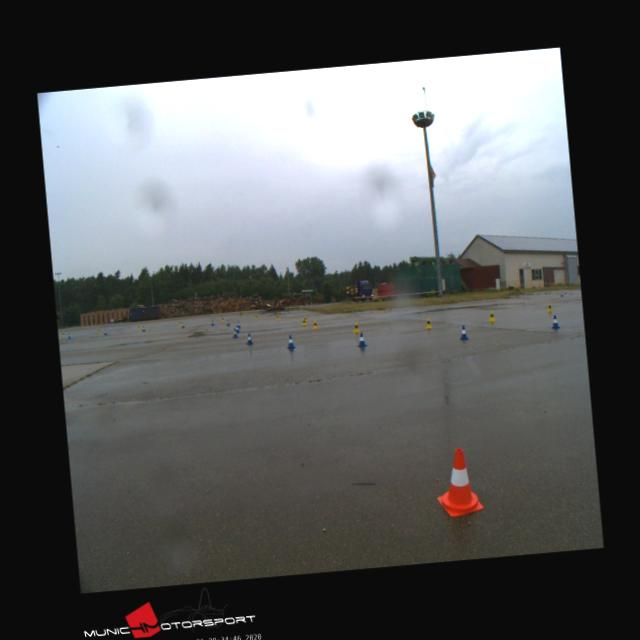blue_cone: (458, 324, 468, 338), (357, 332, 366, 346), (550, 314, 559, 328), (286, 333, 294, 348), (245, 332, 253, 345), (232, 328, 238, 338), (234, 324, 240, 332)
orange_cone: (433, 446, 483, 517)
yellow_cone: (424, 318, 432, 328), (352, 322, 359, 332), (488, 310, 494, 321), (546, 302, 552, 312), (312, 320, 318, 329), (301, 318, 306, 325)
